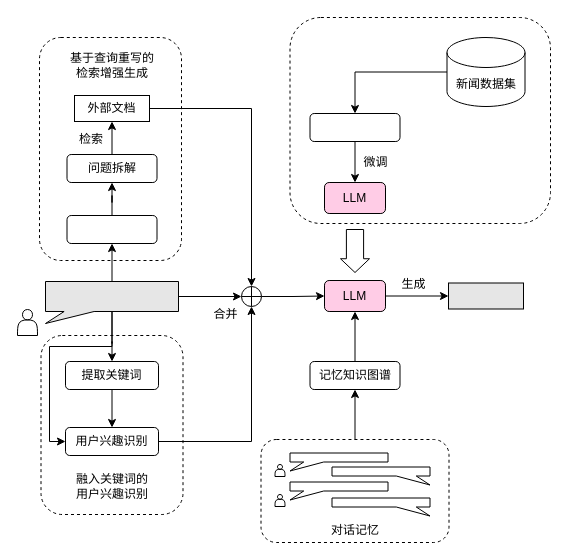
The diagram is 568 pixels wide and 560 high, and some of its shapes have lost their labels. The shapes that lost their labels are listed below. From the top down, each one's centre as x and y in pixels, then its label:
At point 354,127: "LoRA".
At point 111,229: "查询重写".
At point 111,302: "输入".
At point 486,295: "响应".
